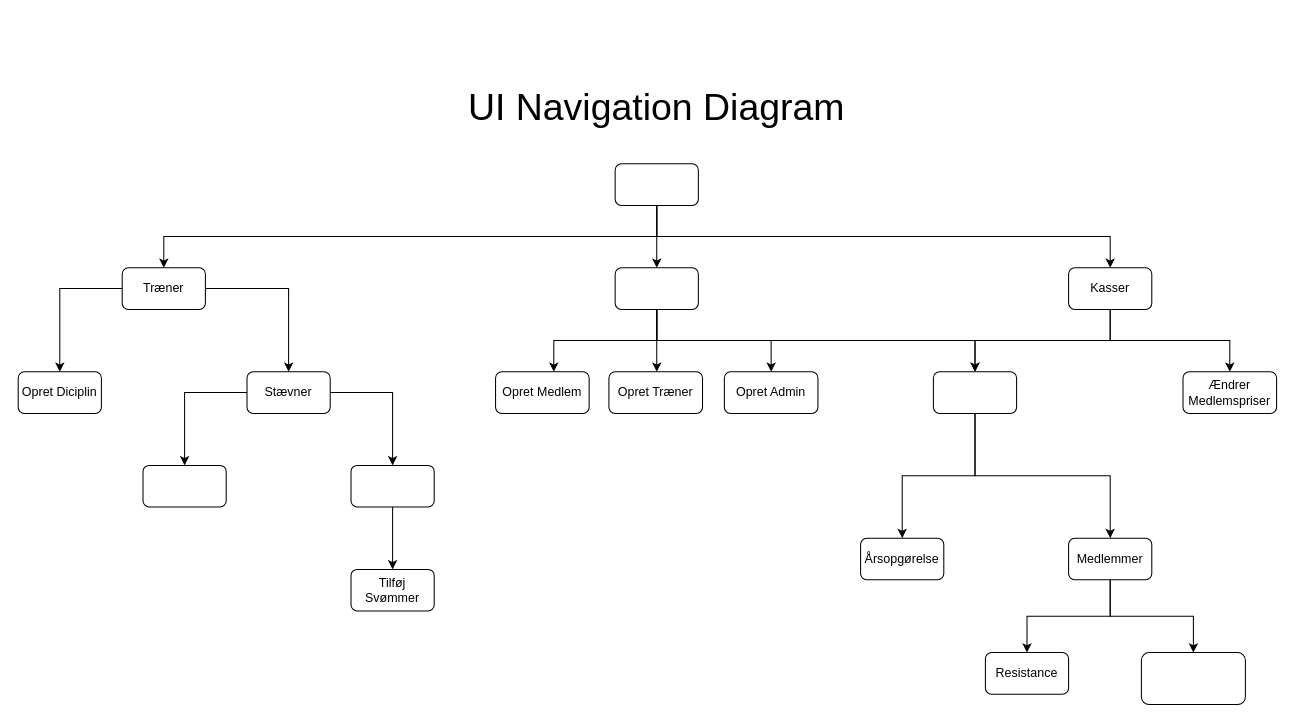
This 1295x723 diagram has some shape labels left out. Each missing label, with the box of its shape:
Admin: (614, 267, 698, 309)
Kommende Stævner: (350, 464, 434, 507)
Login: (614, 163, 698, 205)
Medlemmer i alt: Forskellige typer: (1140, 652, 1245, 705)
Statistik: (932, 371, 1017, 413)
Tidligere Stævner: (142, 464, 226, 507)
